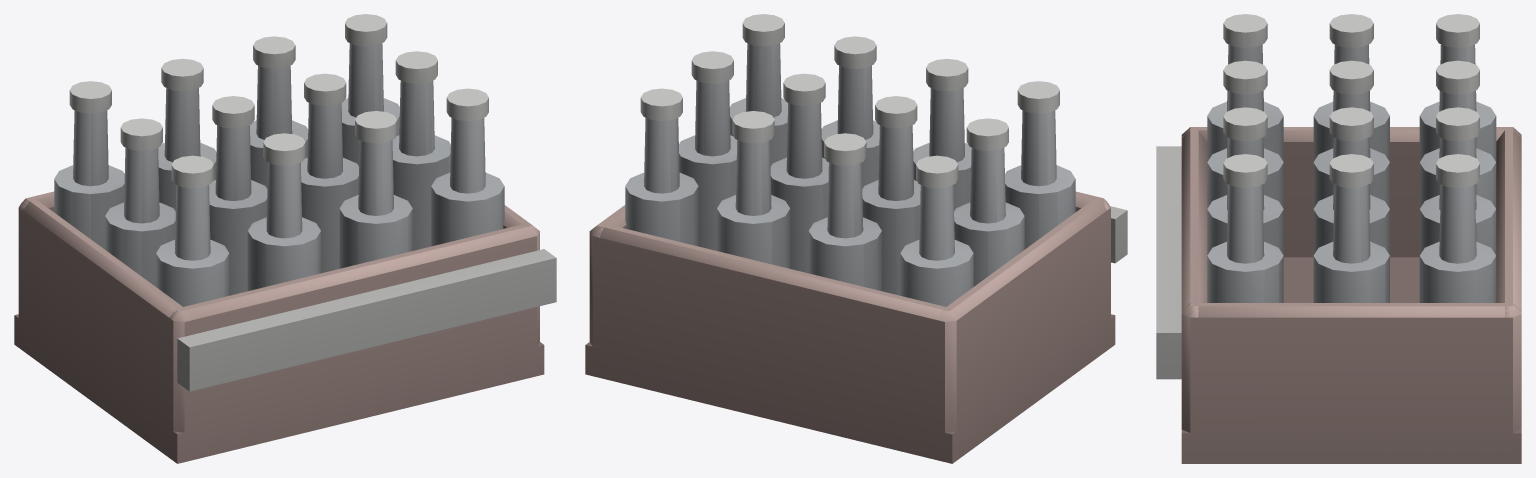
The model's file is crate.glb.
The picture shows the model from 3 angles, left to right: view 1: azimuth 30°, elevation 25°; view 2: azimuth 150°, elevation 25°; view 3: azimuth 270°, elevation 25°; orthographic projection. The views are drawn at different scales.
Parts seen in each view (by area): view 1: crate.001; view 2: crate.001; view 3: crate.001.
Boxes of the visible parts, left/top/right/bottom form: crate.001: left=14, top=14, right=556, bottom=463; crate.001: left=585, top=14, right=1127, bottom=463; crate.001: left=1156, top=14, right=1521, bottom=463.
Bounding box in the file's own units: 0.52 × 0.36 × 0.43.
